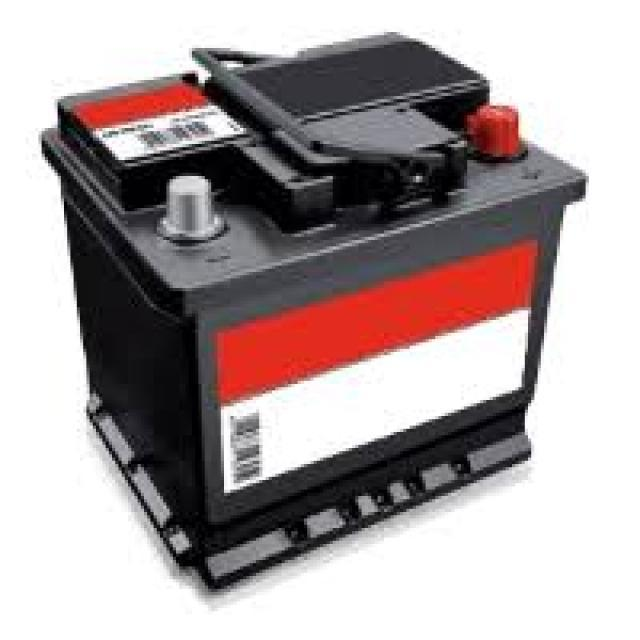Battery: (36, 12, 592, 606)
